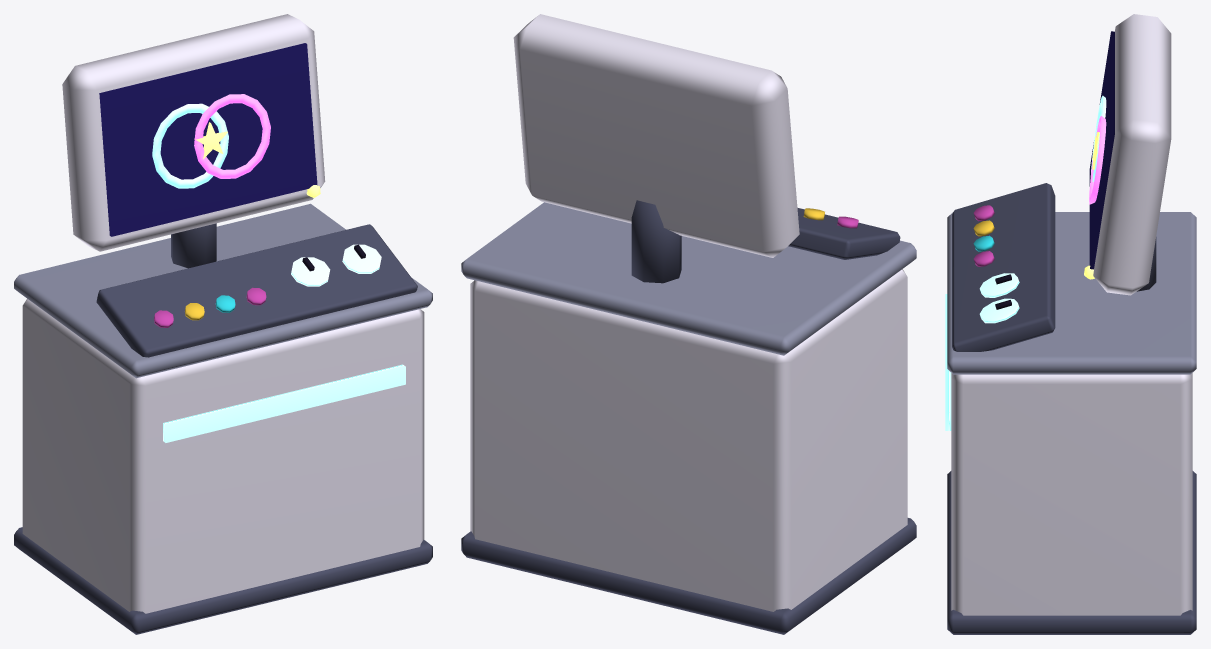
File: lab_console.glb
3 views of the same model, side by side, from view 1: azimuth 30°, elevation 25°; view 2: azimuth 150°, elevation 25°; view 3: azimuth 270°, elevation 25° (orthographic). The views are drawn at different scales.
Visible parts, largest first — view 1: Console; view 2: Console; view 3: Console.
Part boxes in pixels (bbox=[...]): Console: bbox=[14, 14, 432, 634]; Console: bbox=[461, 14, 916, 634]; Console: bbox=[945, 14, 1196, 634].
Size of the model in its own units: 0.88 by 1.36 by 0.625.
